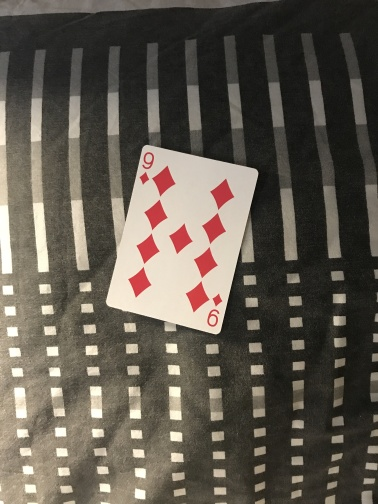nine: (104, 143, 260, 337)
